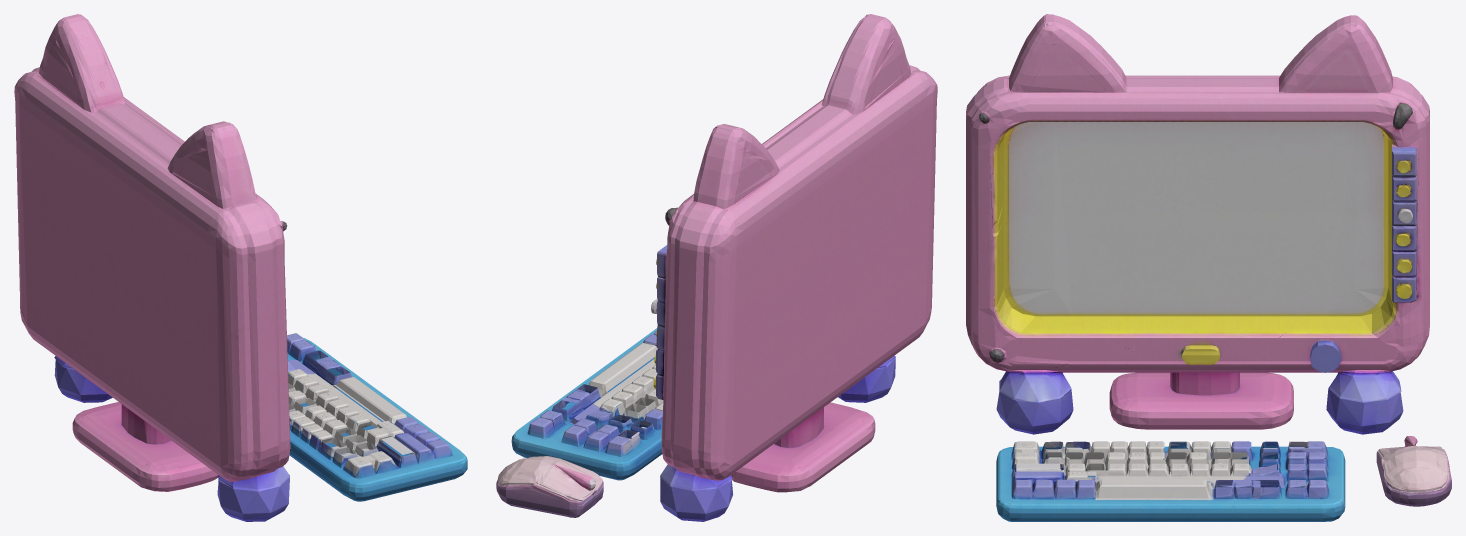
File: catearcomputerpink.glb
The picture shows the model from 3 angles, left to right: view 1: azimuth 30°, elevation 25°; view 2: azimuth 150°, elevation 25°; view 3: azimuth 270°, elevation 25°; orthographic projection.
Parts seen in each view (by area): view 1: tripo_node_ef2a423d-b9d7-4fc2-a1ee-5023ad09c8c1; view 2: tripo_node_ef2a423d-b9d7-4fc2-a1ee-5023ad09c8c1; view 3: tripo_node_ef2a423d-b9d7-4fc2-a1ee-5023ad09c8c1.
Part boxes in pixels (x1=…): tripo_node_ef2a423d-b9d7-4fc2-a1ee-5023ad09c8c1: x1=14, y1=14, x2=467, y2=521; tripo_node_ef2a423d-b9d7-4fc2-a1ee-5023ad09c8c1: x1=496, y1=14, x2=937, y2=521; tripo_node_ef2a423d-b9d7-4fc2-a1ee-5023ad09c8c1: x1=966, y1=14, x2=1451, y2=521.
Bounding box in the file's own units: 0.6443 × 0.8961 × 0.9977.
1 material, 1 textured.
